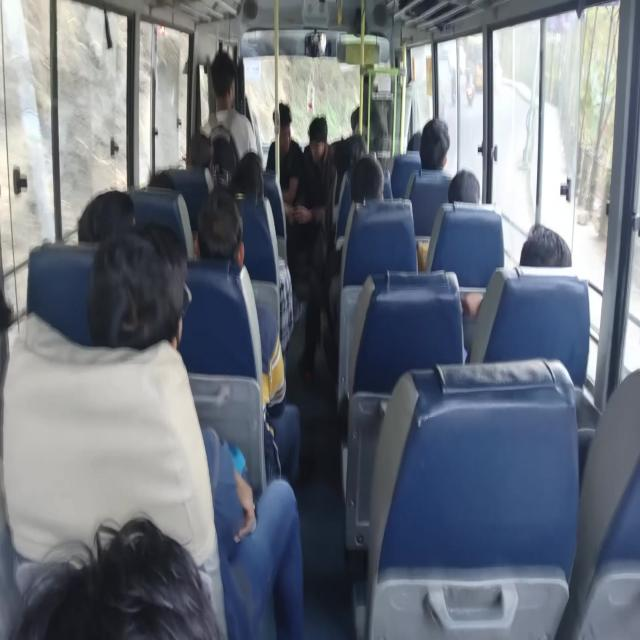person: (87, 221, 305, 638), (194, 188, 301, 485), (18, 514, 224, 639), (292, 115, 336, 379), (461, 222, 572, 318), (198, 51, 261, 193), (417, 168, 480, 271), (265, 102, 305, 227), (301, 116, 336, 223), (77, 189, 135, 243), (519, 222, 572, 267), (350, 104, 387, 151), (350, 154, 384, 204), (418, 117, 449, 171), (447, 168, 480, 204)
